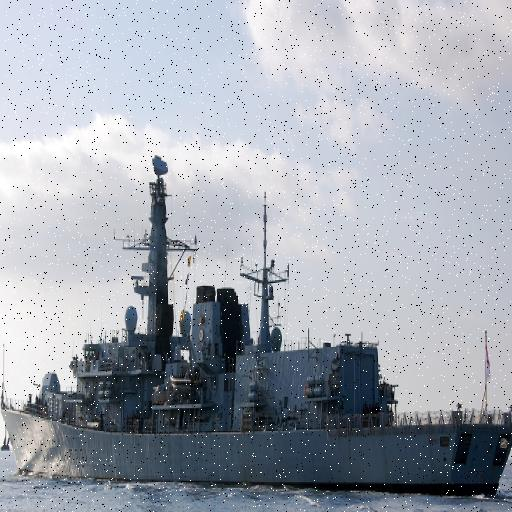Fragata: (1, 142, 512, 493)
